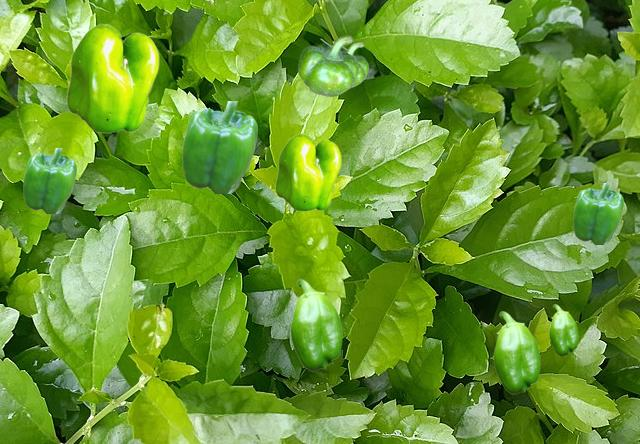bell_pepper: (66, 23, 158, 132), (182, 101, 256, 192), (275, 133, 340, 210), (290, 279, 341, 370), (493, 311, 539, 393), (298, 35, 357, 95), (23, 148, 75, 212), (573, 183, 622, 243), (549, 304, 577, 355), (340, 41, 367, 87)
